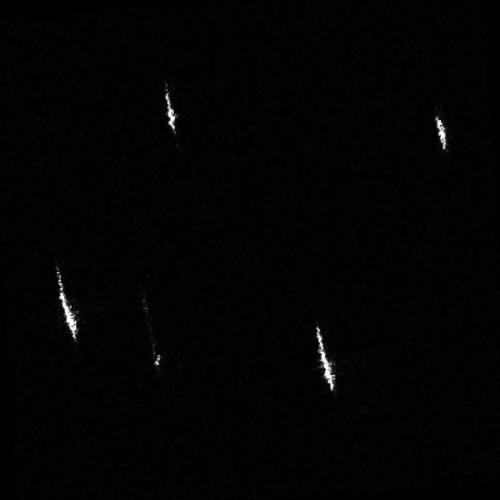ship: (139, 287, 162, 375), (53, 260, 76, 339), (313, 323, 336, 392), (163, 91, 176, 132), (433, 113, 447, 150)
